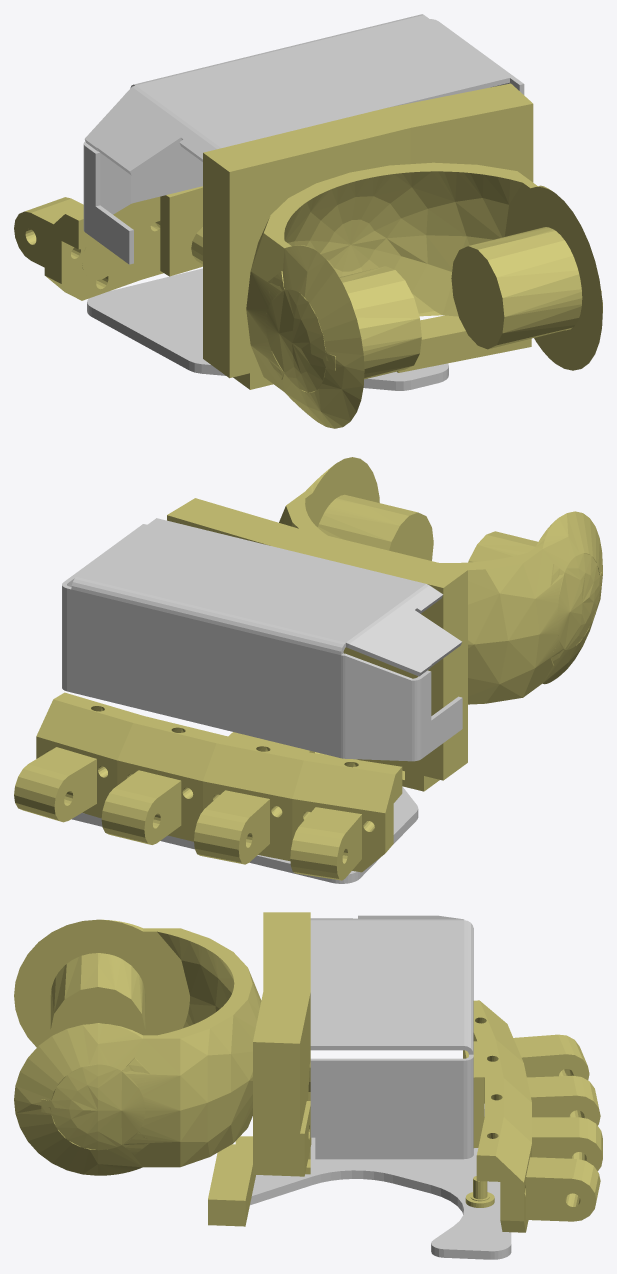
The model's file is LARM_HAND_LINK_mesh.dae.
The picture shows the model from 3 angles, top to bottom: view 1: azimuth 30°, elevation 25°; view 2: azimuth 150°, elevation 25°; view 3: azimuth 270°, elevation 25°; orthographic projection. The views are drawn at different scales.
Parts seen in each view (by area): view 1: LARM_HAND_LINK (×10); view 2: LARM_HAND_LINK (×11); view 3: LARM_HAND_LINK (×15).
Part boxes in pixels (x1,y1,x2,y2): LARM_HAND_LINK (×10): (14, 14, 602, 428); LARM_HAND_LINK (×11): (14, 457, 602, 883); LARM_HAND_LINK (×15): (14, 912, 602, 1259).
Size of the model in its own units: 0.0806 by 0.049 by 0.1247.
